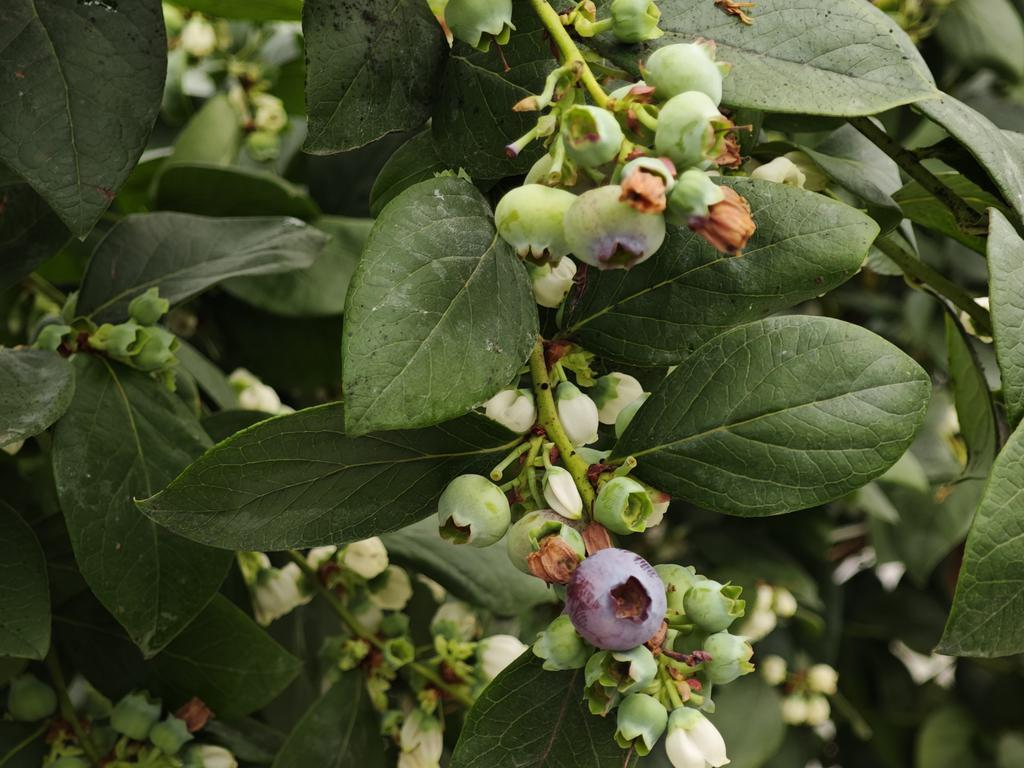Semi-RipeBlueBerry: (566, 546, 667, 651)
UnripeBlueBerry: (562, 181, 668, 272), (495, 183, 578, 268)
